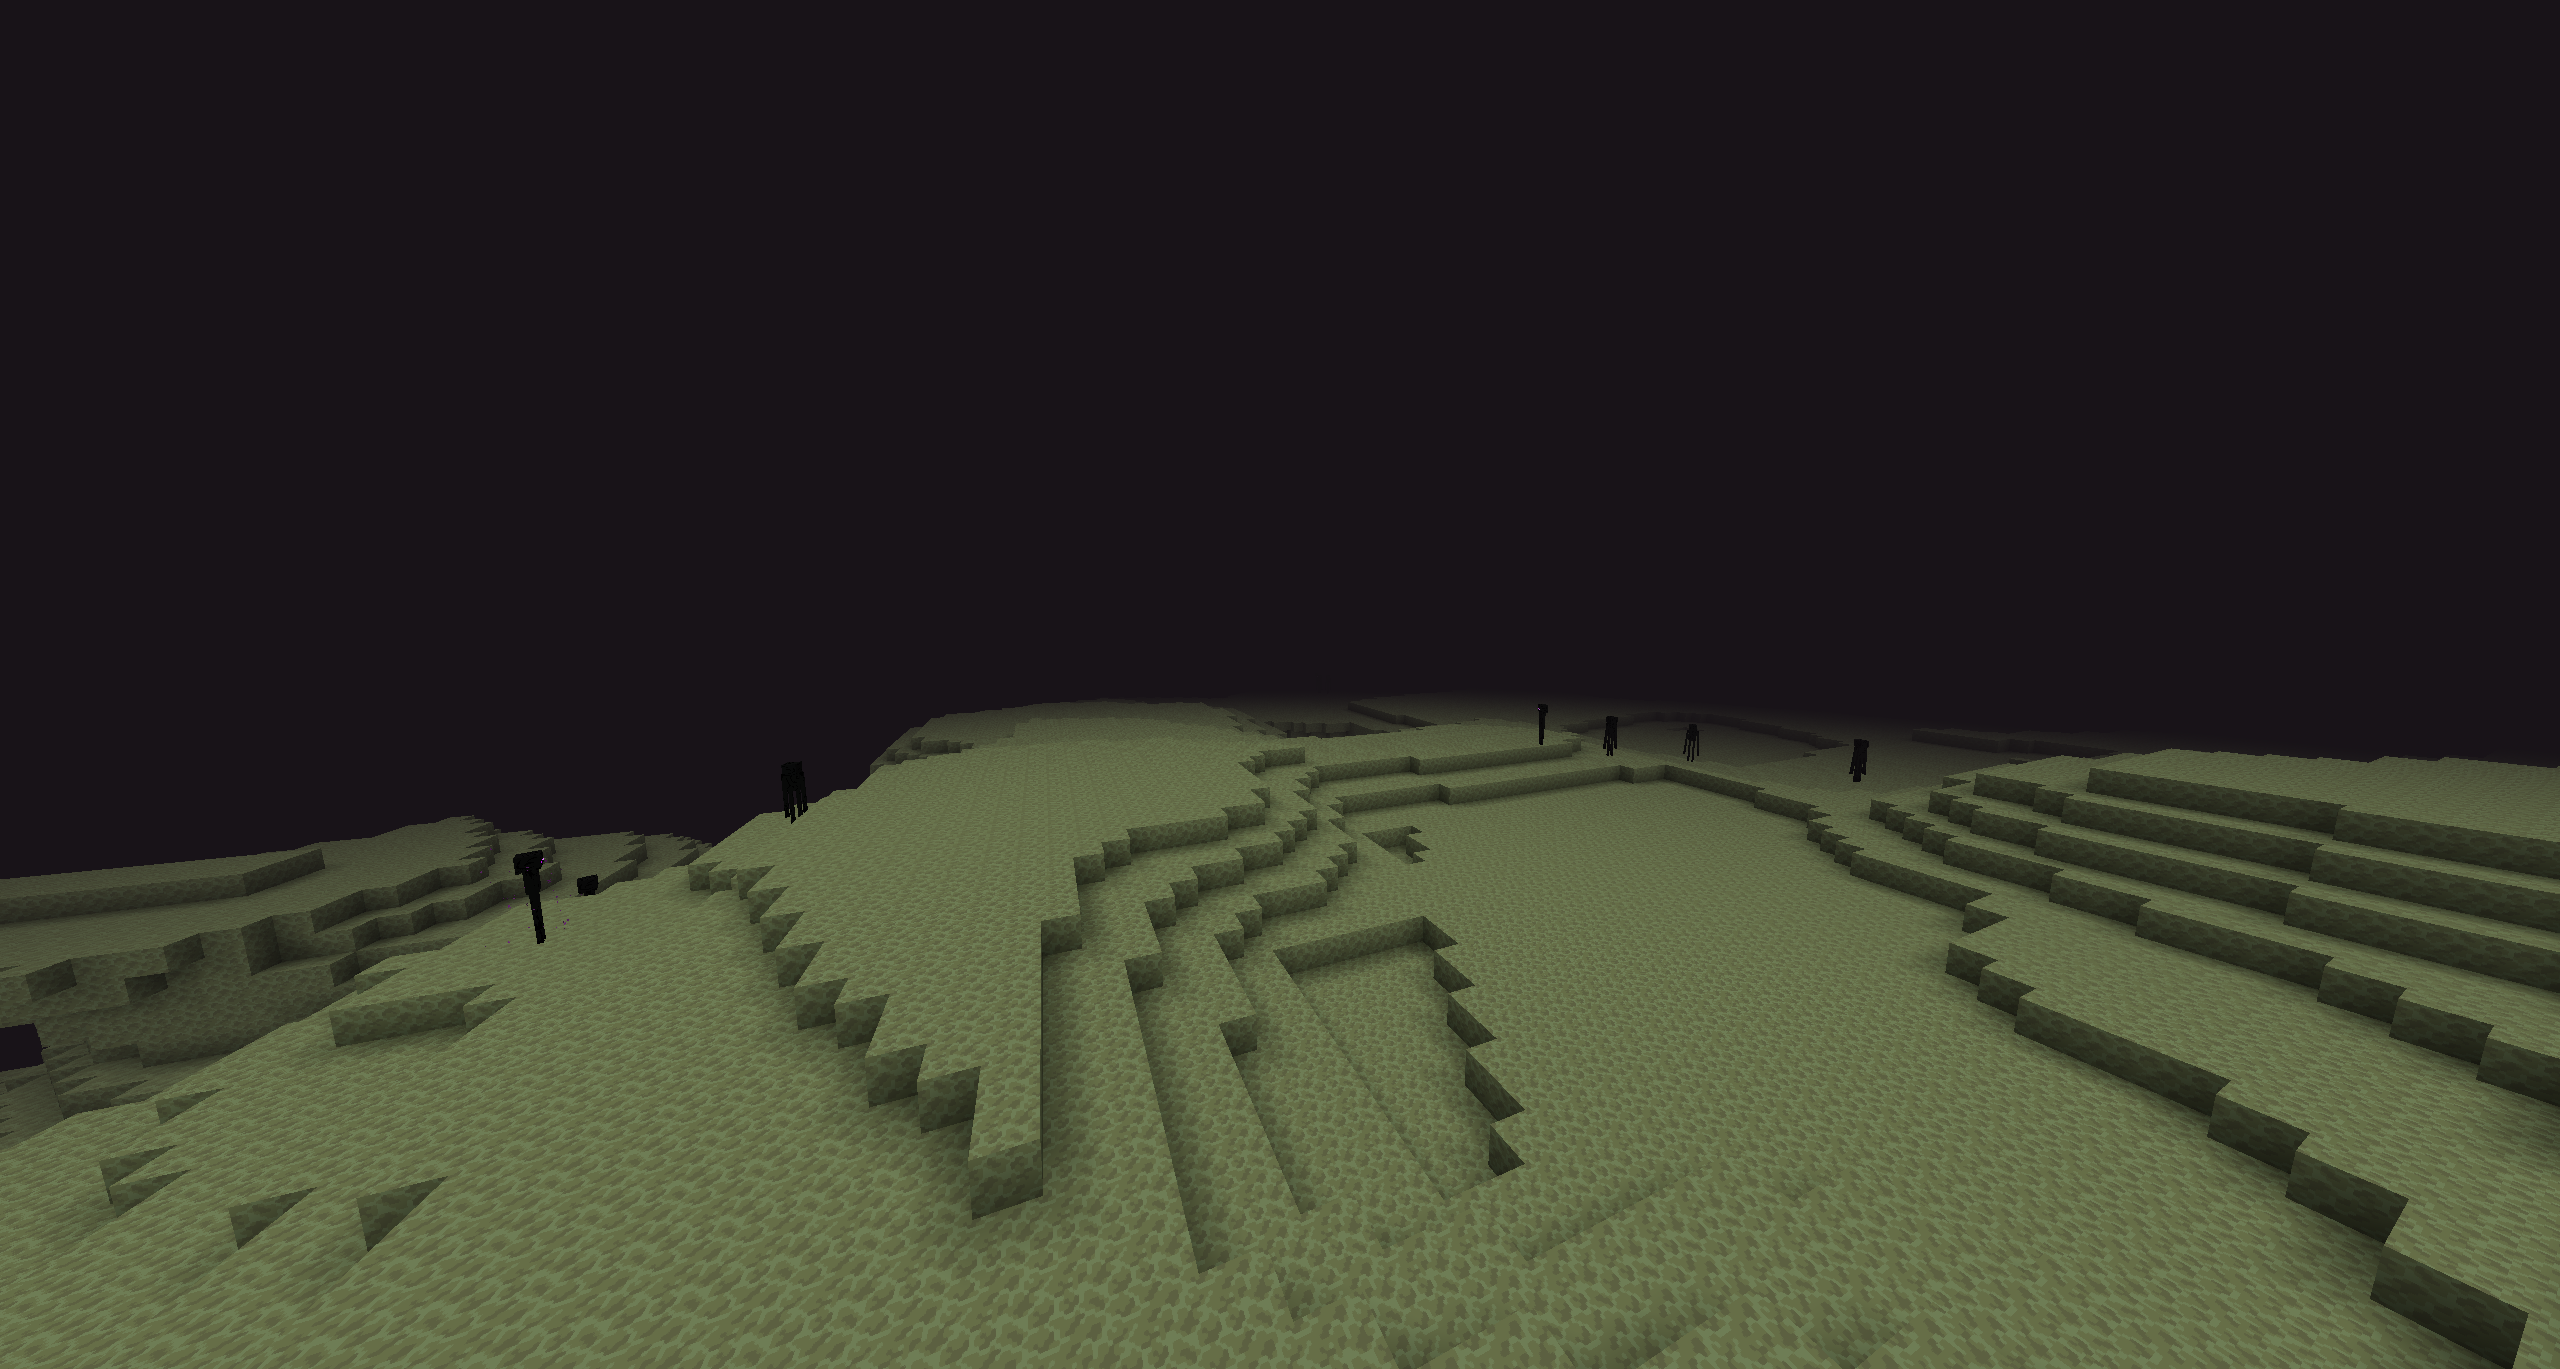enderman: (1849, 738, 1873, 783), (1600, 712, 1622, 760), (1681, 721, 1703, 765), (1534, 701, 1553, 746), (574, 875, 604, 899)
